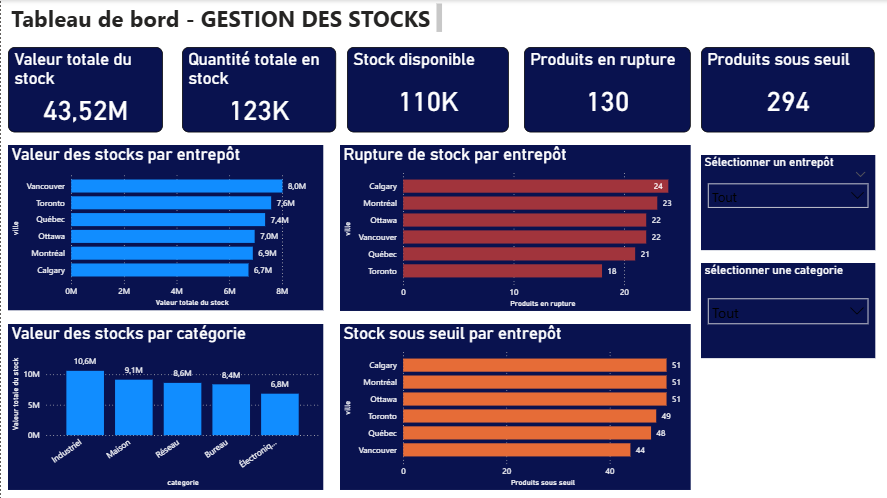

What the dashboard file says about the page in this screenshot:
{"tool":"powerbi","page":{"name":"Gestion des stocks","canvas":[1280,720],"ordinal":0},"visuals":[{"type":"textbox","box":[10.1,0,629.9,52.1],"z":0},{"type":"card","title":"Valeur totale du stock","fields":{"Values":["dwh Fact_Stock_Courant.Valeur totale du stock"]},"box":[10.1,67.2,223.4,122.6],"z":1000},{"type":"card","title":"Quantité  totale en stock","fields":{"Values":["dwh Fact_Stock_Courant.Stock total"]},"box":[260.4,67.2,221.7,122.6],"z":2000},{"type":"card","title":"Stock disponible","fields":{"Values":["dwh Fact_Stock_Courant.Stock disponible"]},"box":[498.9,67.2,233.5,122.6],"z":3000},{"type":"card","title":"Produits en rupture","fields":{"Values":["dwh Fact_Stock_Courant.Produits en rupture"]},"box":[752.5,67.2,240.2,122.6],"z":4000},{"type":"clusteredBarChart","title":"Valeur des stocks par entrepôt","fields":{"Category":["dwh Dim_Entrepot.ville"],"Y":["Sum(dwh Fact_Stock_Courant.valeur_stock)"]},"box":[10.1,208.8,453.6,237.6],"z":5000},{"type":"clusteredColumnChart","title":"Valeur des stocks par catégorie","fields":{"Category":["dwh Dim_Produit.categorie"],"Y":["dwh Fact_Stock_Courant.Valeur totale du stock"]},"box":[10.1,466.6,453.6,239],"z":6000},{"type":"card","title":"Produits sous seuil","fields":{"Values":["dwh Fact_Stock_Courant.Produits sous seuil"]},"box":[1007.9,67.2,250.3,122.6],"z":7000},{"type":"clusteredBarChart","title":"Rupture de stock par entrepôt","fields":{"Category":["dwh Dim_Entrepot.ville"],"Y":["dwh Fact_Stock_Courant.Produits en rupture"]},"box":[488.2,208.8,505.4,239],"z":8000},{"type":"clusteredBarChart","title":"Stock sous seuil par entrepôt","fields":{"Y":["dwh Fact_Stock_Courant.Produits sous seuil"],"Category":["dwh Dim_Entrepot.ville"]},"box":[488.2,466.6,505.4,239],"z":9000},{"type":"slicer","title":"Sélectionner un entrepôt","fields":{"Values":["dwh Dim_Entrepot.ville"]},"box":[1008,223.2,250.6,136.8],"z":10000},{"type":"slicer","title":"sélectionner une categorie","fields":{"Values":["dwh Dim_Produit.categorie"]},"box":[1008,378.7,250.6,136.8],"z":11000}]}

Visuals, with their boxes in screenshot pixels (x1, y1, x2, y2), scaled from the page's 1280x720 canvas onto the 887x498 screenshot:
textbox: <box>7,0,444,36</box>
"Valeur totale du stock" card: <box>7,46,162,131</box>
"Quantité  totale en stock" card: <box>180,46,334,131</box>
"Stock disponible" card: <box>346,46,508,131</box>
"Produits en rupture" card: <box>521,46,688,131</box>
"Valeur des stocks par entrepôt" clusteredBarChart: <box>7,144,321,309</box>
"Valeur des stocks par catégorie" clusteredColumnChart: <box>7,323,321,488</box>
"Produits sous seuil" card: <box>698,46,872,131</box>
"Rupture de stock par entrepôt" clusteredBarChart: <box>338,144,689,310</box>
"Stock sous seuil par entrepôt" clusteredBarChart: <box>338,323,689,488</box>
"Sélectionner un entrepôt" slicer: <box>699,154,872,249</box>
"sélectionner une categorie" slicer: <box>699,262,872,357</box>
